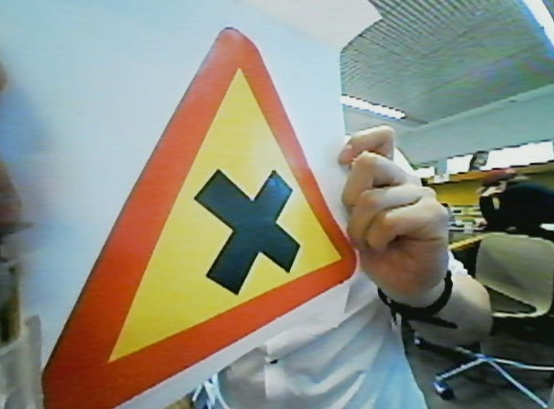junction: (28, 9, 332, 409)
